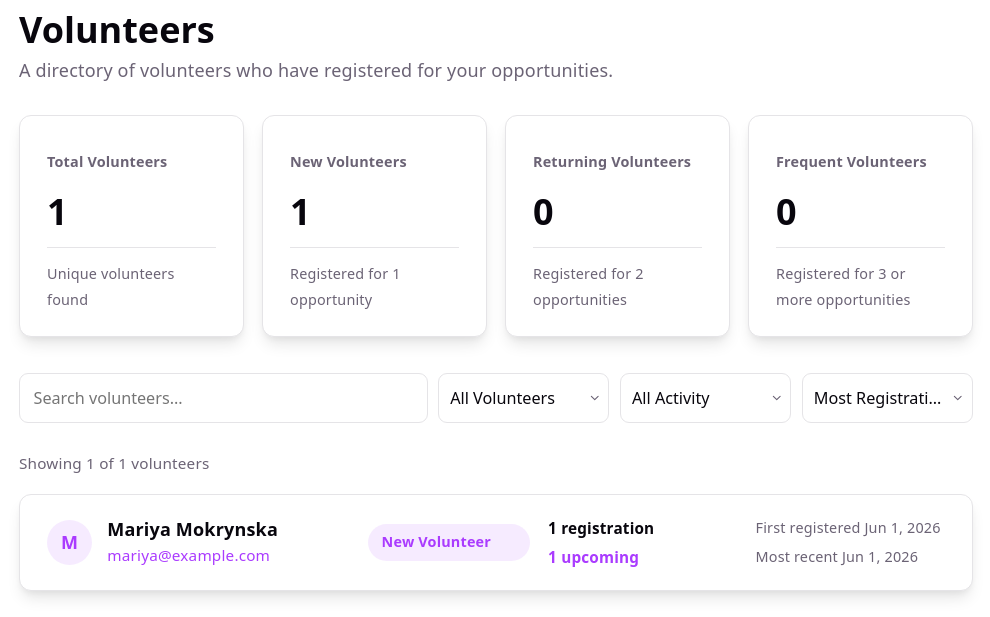
Test: OrganizationVolunteersPage › filters › shows a no-match state with Clear Filters
Expected: the text "Showing 1 of 1 volunteers" is shown, [19, 453, 209, 473]
Type "nobody matches this" into the search field labelled "Search" at (223, 398), box [19, 373, 428, 423]
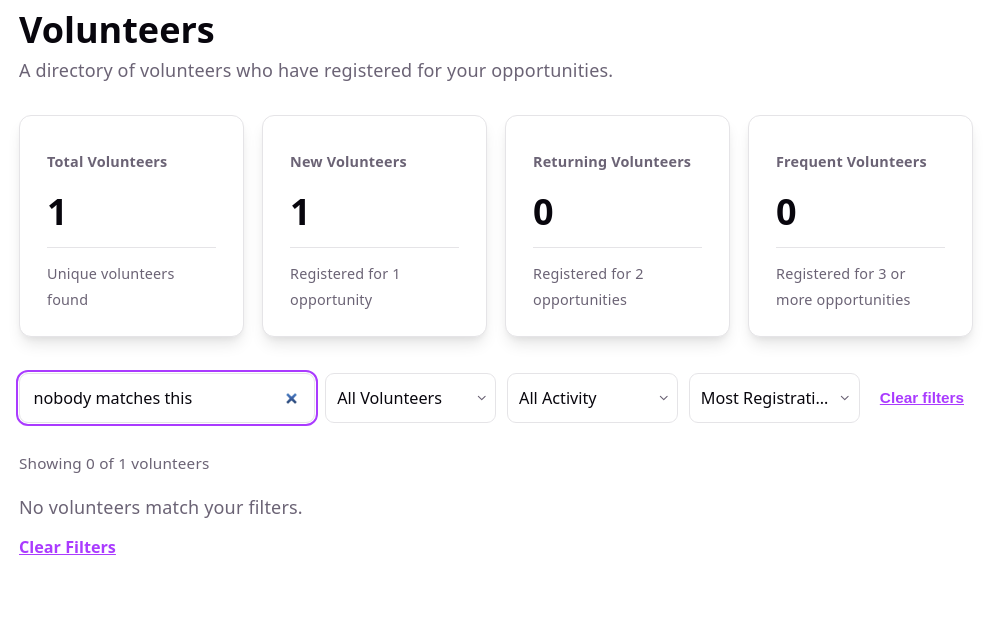
Expected: the text "No volunteers match your filters." is shown, [19, 494, 303, 520]
Expected: the button "Clear Filters" is shown
Click the button "Clear Filters" at (67, 547), box [19, 534, 116, 560]
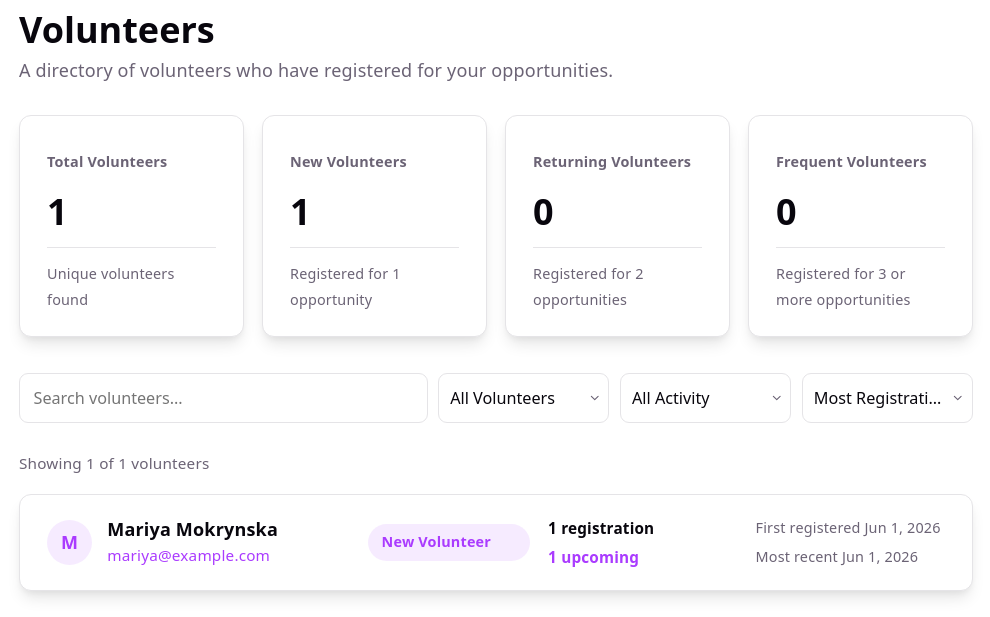
Expected: the text "Showing 1 of 1 volunteers" is shown, [19, 453, 209, 473]
